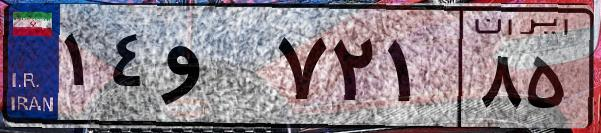1: (385, 28, 445, 110), (57, 26, 110, 100)
2: (330, 28, 385, 110)
4: (110, 28, 158, 98)
5: (525, 38, 570, 115)
7: (270, 28, 330, 110)
8: (475, 38, 525, 113)
و: (158, 20, 270, 120)
